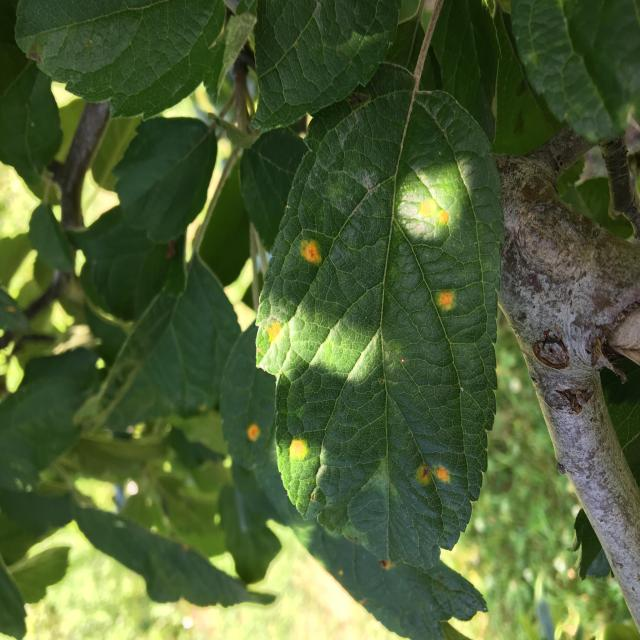Rust: (415, 177, 462, 238), (411, 444, 458, 499), (276, 425, 319, 483), (422, 274, 462, 319), (262, 308, 296, 358), (298, 236, 333, 276), (242, 414, 266, 450)
